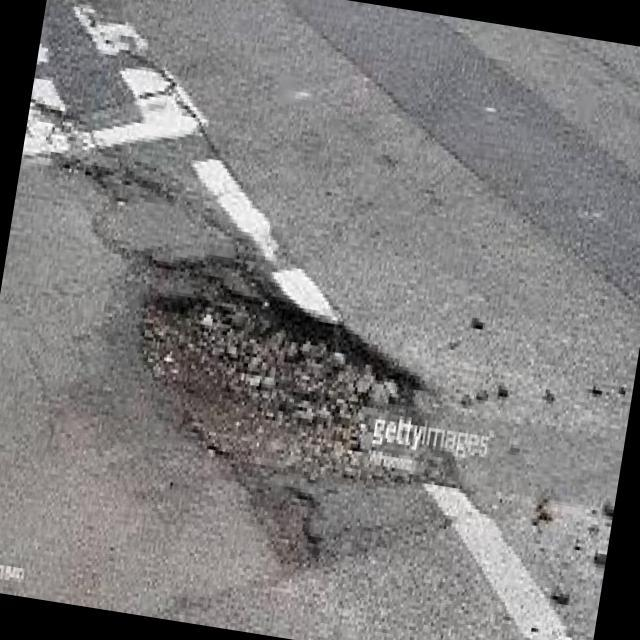Pothole: (91, 141, 424, 481)
